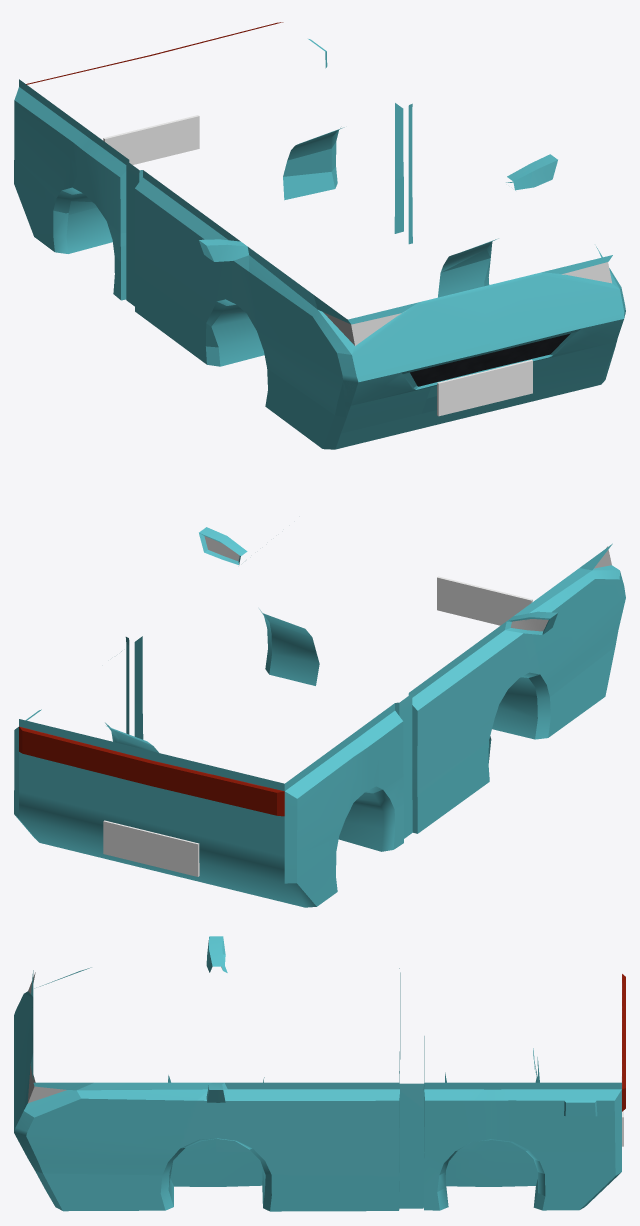
Rendered from EV-BOTTOM-M-WP_sZn.glb.
3 renders of one model, top to bottom at view 1: azimuth 30°, elevation 25°; view 2: azimuth 150°, elevation 25°; view 3: azimuth 270°, elevation 25°, orthographic. The views are drawn at different scales.
Size of the model in its own units: 1.98 by 0.8247 by 3.34.
2 materials, 2 textured.
